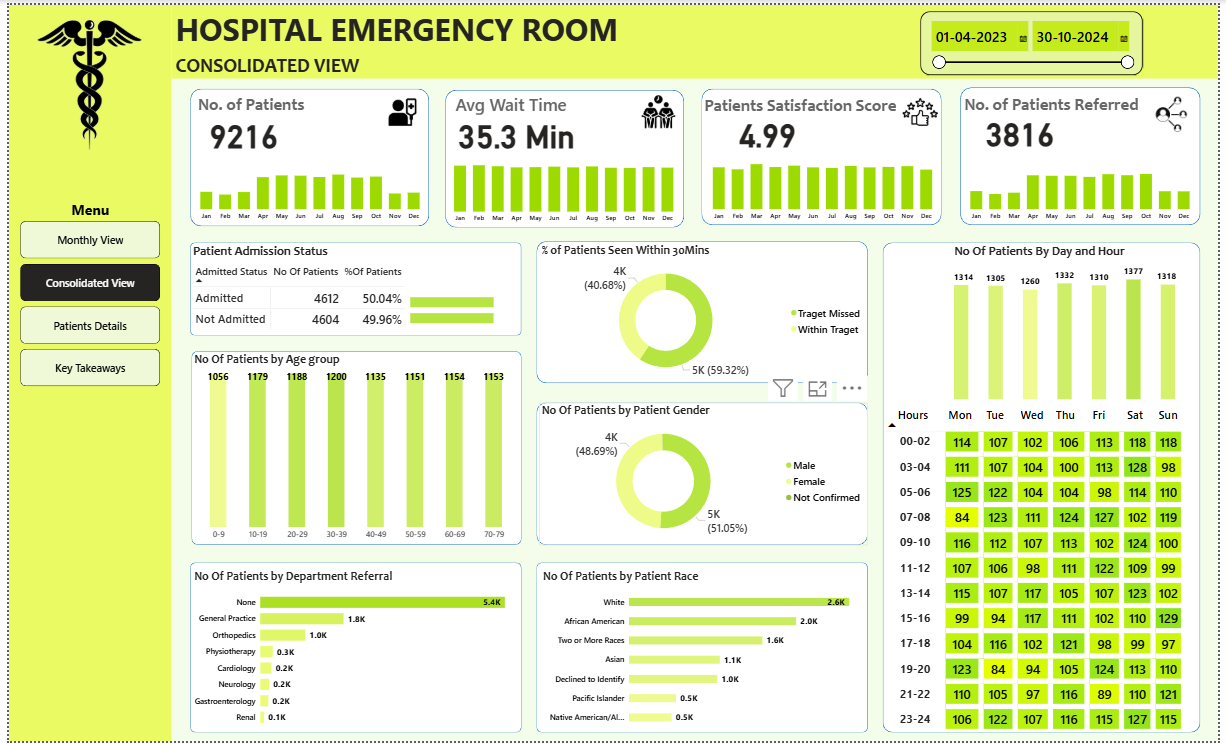

The dashboard page shown, as its layout file describes it:
{"tool":"powerbi","page":{"name":"Consolidated View ","canvas":[2300,1400],"ordinal":1},"visuals":[{"type":"shape","box":[344.8,160.3,454.1,261.6],"z":0},{"type":"shape","box":[0,0,309.1,1400],"z":1000},{"type":"shape","box":[309.1,0,1990.2,140.3],"z":2000},{"type":"textbox","box":[311.5,0,875,88],"z":3000},{"type":"textbox","box":[311.5,88,437.5,90.4],"z":4000},{"type":"card","fields":{"Values":["Hospital ER_Data.No Of Patients"]},"box":[347.1,201.9,198.3,83.3],"z":5000},{"type":"slicer","fields":{"Values":["DATE TABLE.Date"]},"box":[1733.4,11.9,423.2,121.3],"z":6000},{"type":"textbox","box":[353.8,163.6,285,50],"z":7000},{"type":"shape","box":[829.8,162.6,454.1,261.6],"z":8000},{"type":"card","fields":{"Values":["Min(Hospital ER_Data.Avg Wait Time)"]},"box":[841.7,203.1,247.3,83.2],"z":9000},{"type":"textbox","box":[844.1,162.6,285.3,52.3],"z":10000},{"type":"shape","box":[1317.3,160.3,456.5,259.2],"z":11000},{"type":"card","fields":{"Values":["Hospital ER_Data.satisfaction score"]},"box":[1342.7,199,198.3,83.3],"z":12000},{"type":"textbox","box":[1317.3,166.4,375.7,73.7],"z":13000},{"type":"columnChart","fields":{"Y":["Hospital ER_Data.No Of Patients"],"Category":["DATE TABLE.Month Name"]},"box":[344.8,279.1,456.5,140.3],"z":14000},{"type":"shape","box":[1809.5,157.9,456.5,261.6],"z":15000},{"type":"card","fields":{"Values":["Hospital ER_Data.no of patients referred"]},"box":[1822.6,197.6,198.3,83.3],"z":16000},{"type":"textbox","box":[1811.8,164.1,454.1,49.9],"z":17000},{"type":"columnChart","fields":{"Y":["Avg(Hospital ER_Data.Patient Waittime)"],"Category":["DATE TABLE.Month Name"]},"box":[827.5,283.9,456.5,140.3],"z":18000},{"type":"columnChart","fields":{"Category":["DATE TABLE.Month Name"],"Y":["Hospital ER_Data.satisfaction score"]},"box":[1319.6,279.1,456.5,140.3],"z":19000},{"type":"columnChart","fields":{"Category":["DATE TABLE.Month Name"],"Y":["Hospital ER_Data.no of patients referred"]},"box":[1809.5,279.1,456.5,140.3],"z":20000},{"type":"shape","box":[344.8,452.3,630,177],"z":21000},{"type":"pivotTable","title":"Patient Admission Status","fields":{"Rows":["Hospital ER_Data.Admitted Status"],"Values":["Hospital ER_Data.No Of Patients1","Divide(Hospital ER_Data.No Of Patients, ScopedEval(Hospital ER_Data.No Of Patients, []))"]},"box":[344.8,452.3,425,180.7],"z":22000},{"type":"barChart","fields":{"Category":["Hospital ER_Data.Admitted Status"],"Y":["Hospital ER_Data.No Of Patients"]},"box":[758.5,528.4,216.4,99.9],"z":23000},{"type":"shape","box":[347.1,659.4,627.7,368],"z":24000},{"type":"clusteredColumnChart","fields":{"Category":["Hospital ER_Data.Age group"],"Y":["Hospital ER_Data.No Of Patients"]},"box":[347.1,659.4,627.7,368.5],"z":25000},{"type":"shape","box":[344.8,1060.5,630.1,323.4],"z":26000},{"type":"clusteredBarChart","fields":{"Category":["Hospital ER_Data.Department Referral"],"Y":["Hospital ER_Data.No Of Patients"]},"box":[347.1,1072.4,630.1,311.5],"z":27000},{"type":"shape","box":[1003.4,449.4,630.1,270],"z":28000},{"type":"shape","box":[1003.4,756.1,630.1,271.1],"z":29000},{"type":"shape","box":[1003.4,1060.5,630.1,323.4],"z":30000},{"type":"clusteredBarChart","fields":{"Y":["Hospital ER_Data.No Of Patients"],"Category":["Hospital ER_Data.Patient Race"]},"box":[1010.5,1072.4,623,311.5],"z":31000},{"type":"donutChart","fields":{"Y":["Hospital ER_Data.No Of Patients"],"Category":["Hospital ER_Data.Patient Gender"]},"box":[1008.2,756.1,625.3,271.1],"z":32000},{"type":"donutChart","title":"% of Patients Seen Within 30Mins","fields":{"Category":["Hospital ER_Data.patient seen in 30min"],"Y":["Hospital ER_Data.No Of Patients"]},"box":[1008.2,451.8,625.3,268.7],"z":33000},{"type":"shape","box":[1662,451.8,603.9,932.1],"z":34000},{"type":"pivotTable","fields":{"Rows":["Hospital ER_Data.Time interval"],"Columns":["DATE TABLE.day name"],"Values":["Hospital ER_Data.No Of Patients"]},"box":[1662,756.1,603.9,627.7],"z":35000},{"type":"columnChart","title":"No Of Patients By Day and Hour","fields":{"Category":["DATE TABLE.day name"],"Y":["Hospital ER_Data.No Of Patients"]},"box":[1792.8,451.8,432.7,304.3],"z":36000},{"type":"image","box":[696.7,166.4,102.2,73.7],"z":37000},{"type":"image","box":[1186.5,166.4,97.5,73.7],"z":38000},{"type":"image","box":[1692.9,159.3,80.8,88],"z":39000},{"type":"image","box":[2156.6,166.4,109.4,83.2],"z":40000},{"type":"image","box":[33.3,23.8,240.2,256.8],"z":41000},{"type":"pageNavigator","title":"Menu","box":[21.4,370.9,266.3,356.7],"z":42000}]}

Visuals, with their boxes in screenshot pixels (x1, y1, x2, y2), scaled from the page's 2300x1400 canvas onto the 1226x744 screenshot:
shape: [left=184, top=85, right=426, bottom=224]
shape: [left=0, top=0, right=165, bottom=743]
shape: [left=165, top=0, right=1225, bottom=75]
textbox: [left=166, top=0, right=632, bottom=47]
textbox: [left=166, top=47, right=399, bottom=95]
card - Hospital ER_Data.No Of Patients: [left=185, top=107, right=291, bottom=152]
slicer - DATE TABLE.Date: [left=924, top=6, right=1150, bottom=71]
textbox: [left=189, top=87, right=341, bottom=114]
shape: [left=442, top=86, right=684, bottom=225]
card - Min(Hospital ER_Data.Avg Wait Time): [left=449, top=108, right=580, bottom=152]
textbox: [left=450, top=86, right=602, bottom=114]
shape: [left=702, top=85, right=946, bottom=223]
card - Hospital ER_Data.satisfaction score: [left=716, top=106, right=821, bottom=150]
textbox: [left=702, top=88, right=902, bottom=128]
columnChart - Hospital ER_Data.No Of Patients x DATE TABLE.Month Name: [left=184, top=148, right=427, bottom=223]
shape: [left=965, top=84, right=1208, bottom=223]
card - Hospital ER_Data.no of patients referred: [left=972, top=105, right=1077, bottom=149]
textbox: [left=966, top=87, right=1208, bottom=114]
columnChart - Avg(Hospital ER_Data.Patient Waittime) x DATE TABLE.Month Name: [left=441, top=151, right=684, bottom=225]
columnChart - DATE TABLE.Month Name x Hospital ER_Data.satisfaction score: [left=703, top=148, right=947, bottom=223]
columnChart - DATE TABLE.Month Name x Hospital ER_Data.no of patients referred: [left=965, top=148, right=1208, bottom=223]
shape: [left=184, top=240, right=520, bottom=334]
"Patient Admission Status" pivotTable: [left=184, top=240, right=410, bottom=336]
barChart - Hospital ER_Data.Admitted Status x Hospital ER_Data.No Of Patients: [left=404, top=281, right=520, bottom=334]
shape: [left=185, top=350, right=520, bottom=546]
clusteredColumnChart - Hospital ER_Data.Age group x Hospital ER_Data.No Of Patients: [left=185, top=350, right=520, bottom=546]
shape: [left=184, top=564, right=520, bottom=735]
clusteredBarChart - Hospital ER_Data.Department Referral x Hospital ER_Data.No Of Patients: [left=185, top=570, right=521, bottom=735]
shape: [left=535, top=239, right=871, bottom=382]
shape: [left=535, top=402, right=871, bottom=546]
shape: [left=535, top=564, right=871, bottom=735]
clusteredBarChart - Hospital ER_Data.No Of Patients x Hospital ER_Data.Patient Race: [left=539, top=570, right=871, bottom=735]
donutChart - Hospital ER_Data.No Of Patients x Hospital ER_Data.Patient Gender: [left=537, top=402, right=871, bottom=546]
"% of Patients Seen Within 30Mins" donutChart: [left=537, top=240, right=871, bottom=383]
shape: [left=886, top=240, right=1208, bottom=735]
pivotTable - Hospital ER_Data.Time interval x DATE TABLE.day name: [left=886, top=402, right=1208, bottom=735]
"No Of Patients By Day and Hour" columnChart: [left=956, top=240, right=1186, bottom=402]
image: [left=371, top=88, right=426, bottom=128]
image: [left=632, top=88, right=684, bottom=128]
image: [left=902, top=85, right=945, bottom=131]
image: [left=1150, top=88, right=1208, bottom=133]
image: [left=18, top=13, right=146, bottom=149]
"Menu" pageNavigator: [left=11, top=197, right=153, bottom=387]
